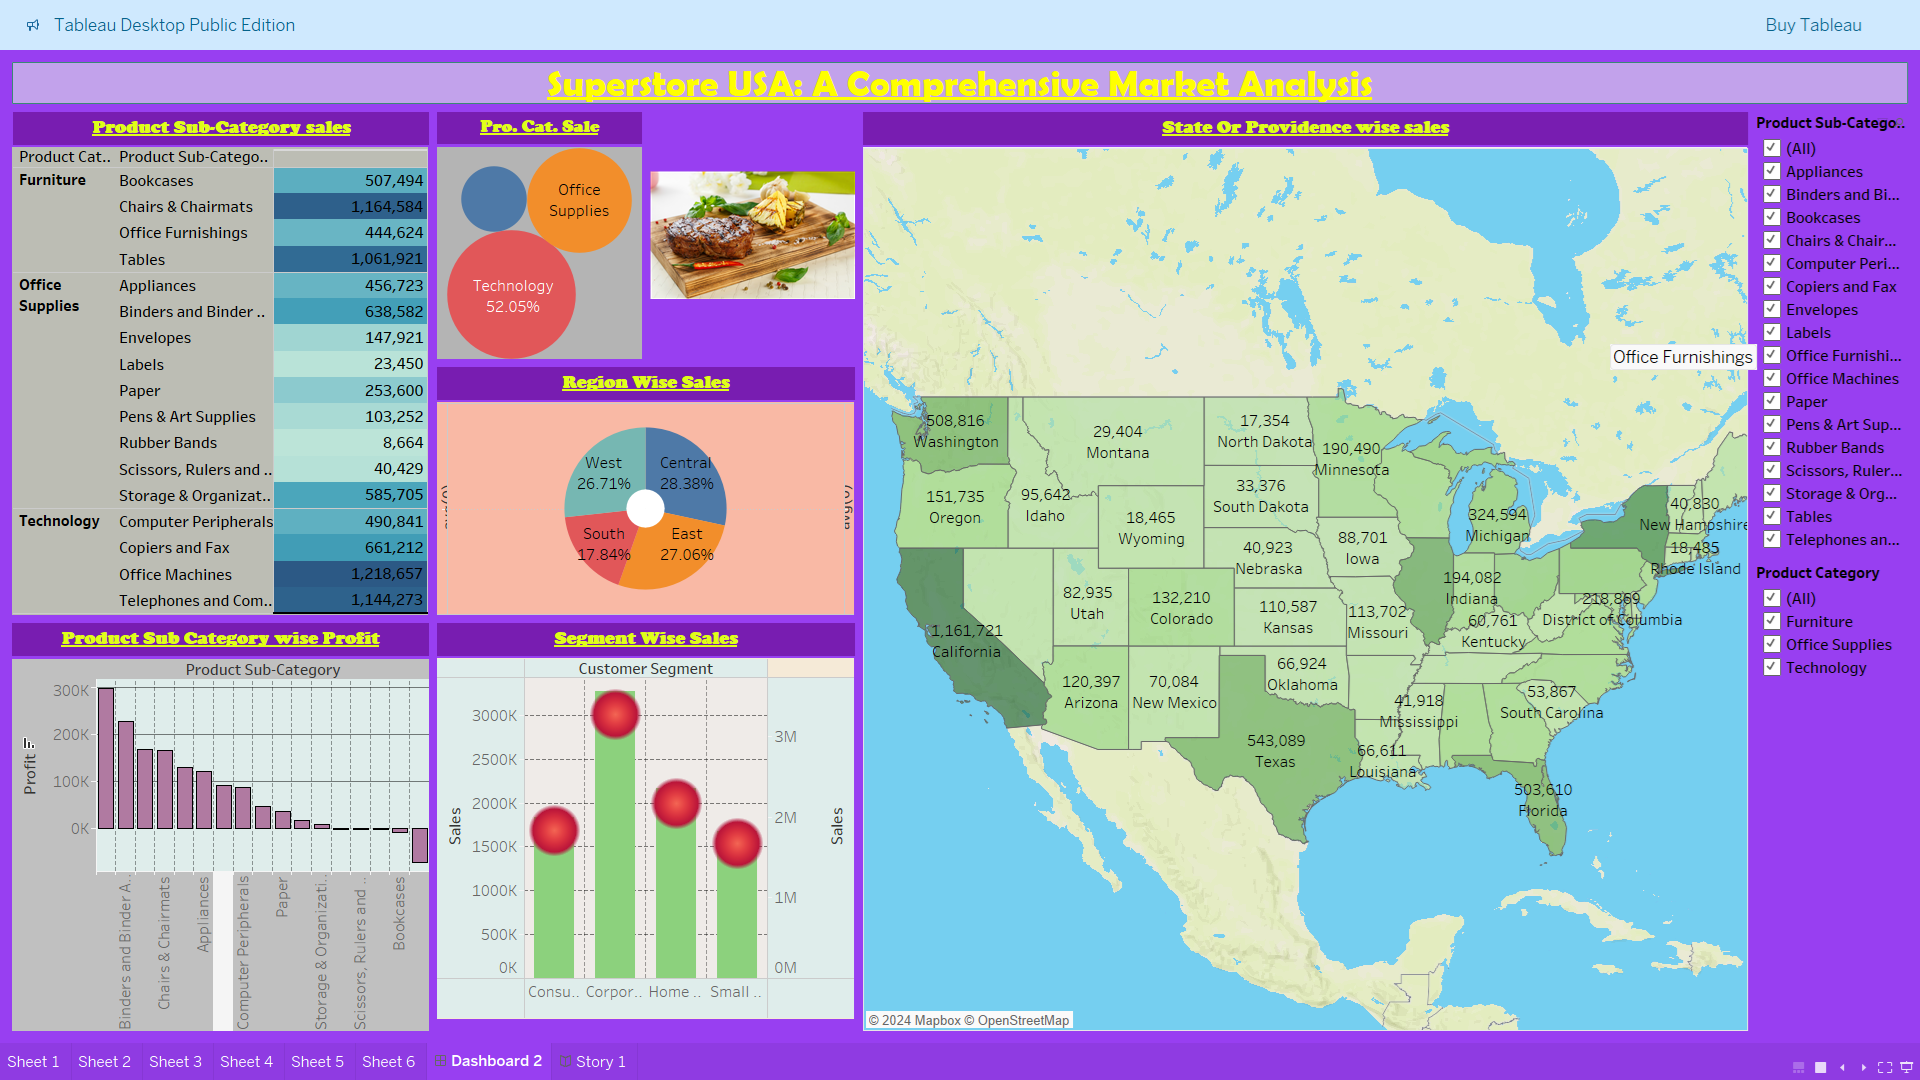

What the dashboard file says about the page in this screenshot:
{"tool":"tableau","page":{"name":"Dashboard 2","canvas":[1000,1000],"units":"permille","ordinal":0},"visuals":[{"type":"title","box":[4.8,10,990.3,62.4]},{"type":"worksheet","title":"Sheet 1","mark":"Square","rows":["Product Category","Product Sub-Category"],"box":[4.8,72.4,217.9,505.8]},{"type":"worksheet","title":"Sheet 6","mark":"Circle","box":[222.8,72.4,109.1,252.7]},{"type":"image","param":"Image/3.jpg","box":[331.9,72.4,109,252.7]},{"type":"worksheet","title":"Sheet 4","mark":"Automatic","box":[440.9,72.4,457.7,917.6]},{"type":"filter","title":"Sheet 1","param":"[federated.0iyszgl0cegila13g7fwz1w1et54].[none:Product Sub-Category:nk]","box":[898.6,72.4,96.6,561.8]},{"type":"worksheet","title":"Sheet 3","mark":"Pie","rows":["Calculation_1220475542307332099","Calculation_1220475542307364869"],"box":[222.8,325.1,218.2,253.1]},{"type":"worksheet","title":"Sheet 2","mark":"Automatic","rows":["Profit"],"cols":["Product Sub-Category"],"box":[4.8,578.2,218,411.8]},{"type":"worksheet","title":"Sheet 5","mark":"Bar","rows":["Sales","Sales"],"cols":["Customer Segment"],"box":[222.8,578.2,218.1,411.8]},{"type":"filter","title":"Sheet 1","param":"[federated.0iyszgl0cegila13g7fwz1w1et54].[none:Product Category:nk]","box":[898.6,634.2,96.6,159.8]}]}

Visuals, with their boxes on the dashboard's canvas, which has no fixed pixel size, in thousandths of its width and height (x1, y1, x2, y2). These are canvas units, not pixel positions in the 1920x1080 screenshot, which may show the page scaled, cropped or inside an application window:
title: {"left": 5, "top": 10, "right": 995, "bottom": 72}
"Sheet 1" worksheet (Square marks): {"left": 5, "top": 72, "right": 223, "bottom": 578}
"Sheet 6" worksheet (Circle marks): {"left": 223, "top": 72, "right": 332, "bottom": 325}
image: {"left": 332, "top": 72, "right": 441, "bottom": 325}
"Sheet 4" worksheet: {"left": 441, "top": 72, "right": 899, "bottom": 990}
"Sheet 1" filter: {"left": 899, "top": 72, "right": 995, "bottom": 634}
"Sheet 3" worksheet (Pie marks): {"left": 223, "top": 325, "right": 441, "bottom": 578}
"Sheet 2" worksheet: {"left": 5, "top": 578, "right": 223, "bottom": 990}
"Sheet 5" worksheet (Bar marks): {"left": 223, "top": 578, "right": 441, "bottom": 990}
"Sheet 1" filter: {"left": 899, "top": 634, "right": 995, "bottom": 794}
